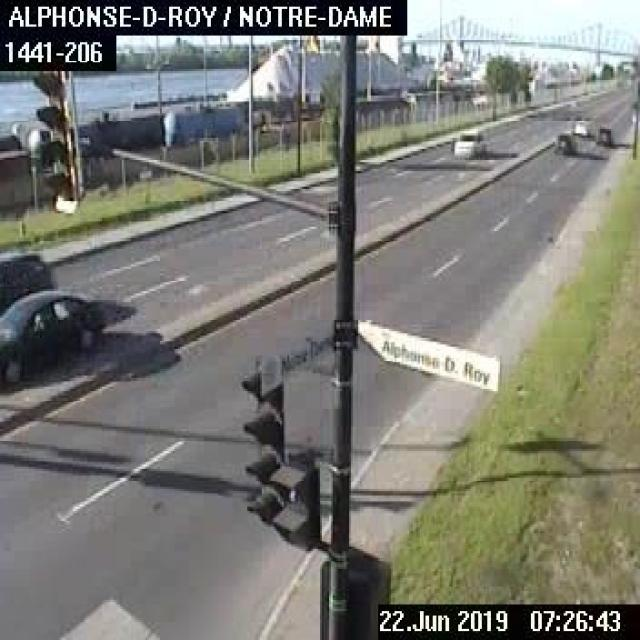vehicle: (0, 289, 104, 387), (0, 251, 58, 309), (451, 126, 485, 158), (571, 115, 591, 137), (553, 133, 572, 153), (595, 124, 609, 142)
